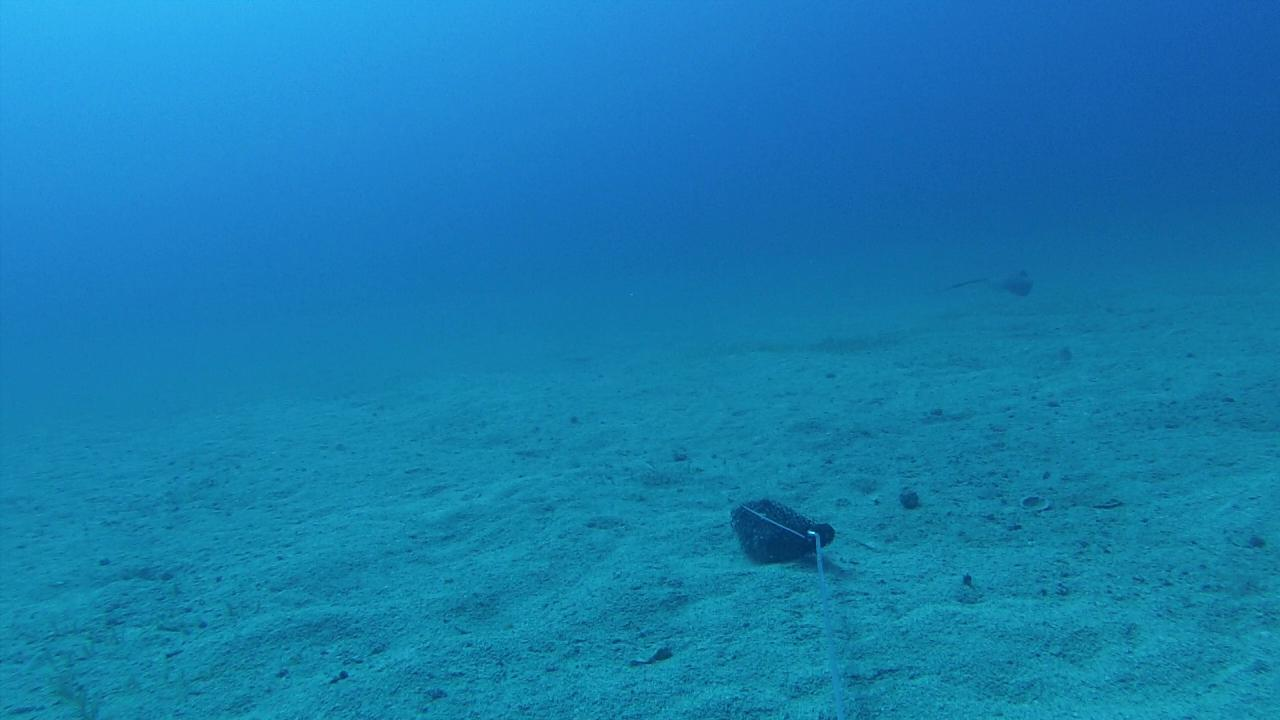dasyatis: (945, 264, 1035, 298)
